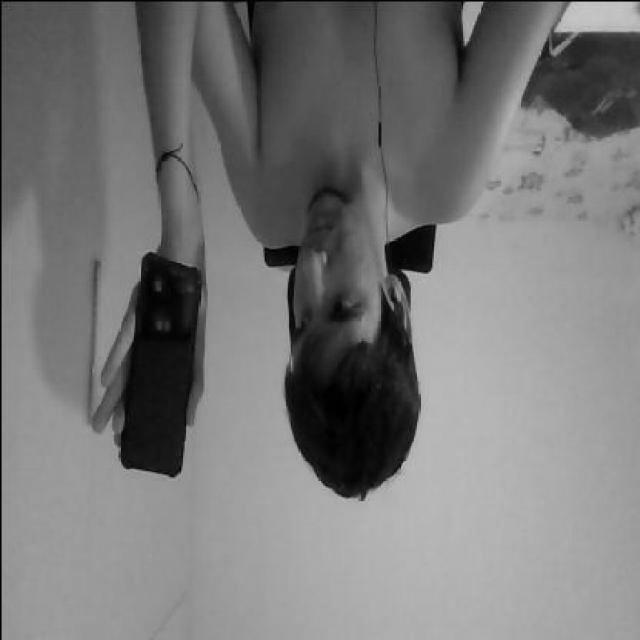fake: (116, 242, 199, 478)
real: (285, 180, 390, 365)
